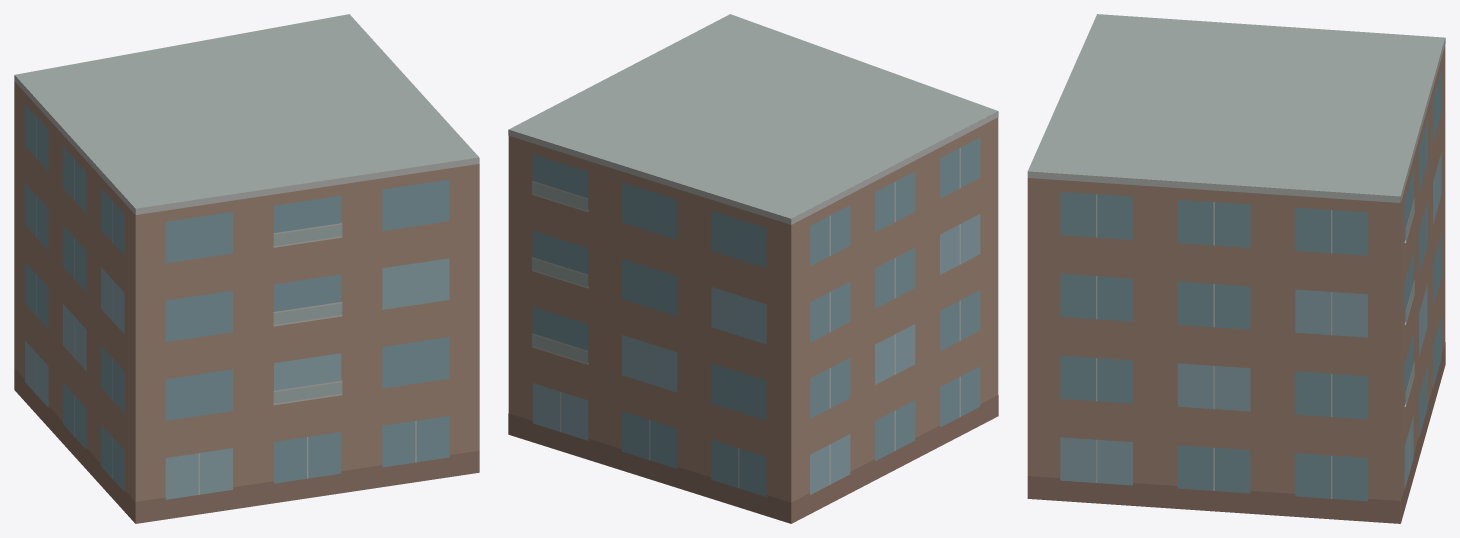
Rendered from survey-upis-32707746.glb.
3 renders of one model, left to right at view 1: azimuth 30°, elevation 25°; view 2: azimuth 150°, elevation 25°; view 3: azimuth 270°, elevation 25°, orthographic. The views are drawn at different scales.
Parts seen in each view (by area): view 1: survey-upis-32707746.tmp; view 2: survey-upis-32707746.tmp; view 3: survey-upis-32707746.tmp.
Part boxes in pixels (left/top/right/bottom): survey-upis-32707746.tmp: left=14, top=14, right=479, bottom=523; survey-upis-32707746.tmp: left=508, top=14, right=998, bottom=523; survey-upis-32707746.tmp: left=1027, top=14, right=1445, bottom=523.
Size of the model in its own units: 14.6 by 12.2 by 14.12.
